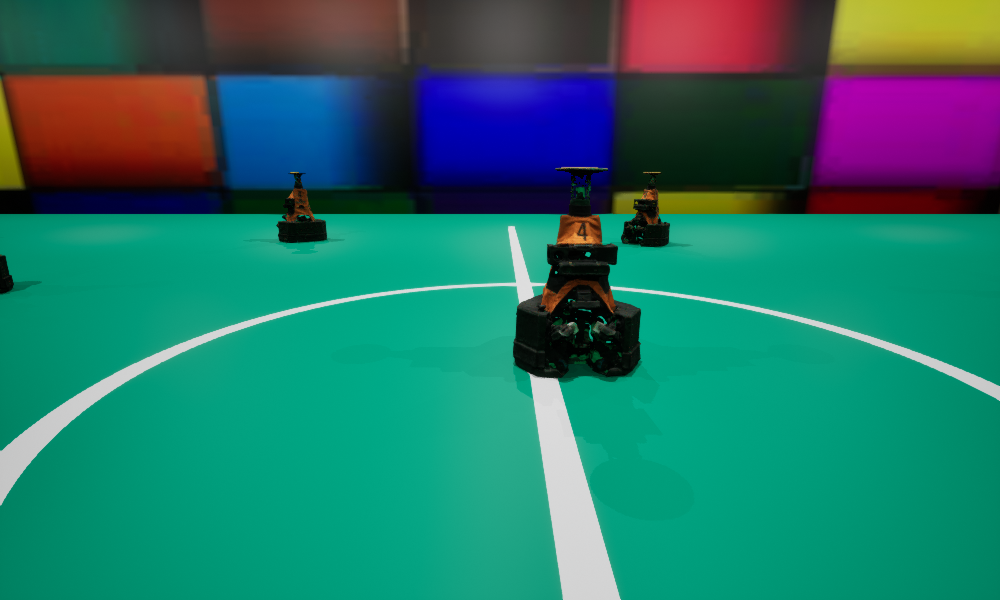o: (513, 167, 640, 377), (621, 172, 669, 245), (276, 172, 326, 241), (0, 255, 13, 291)
